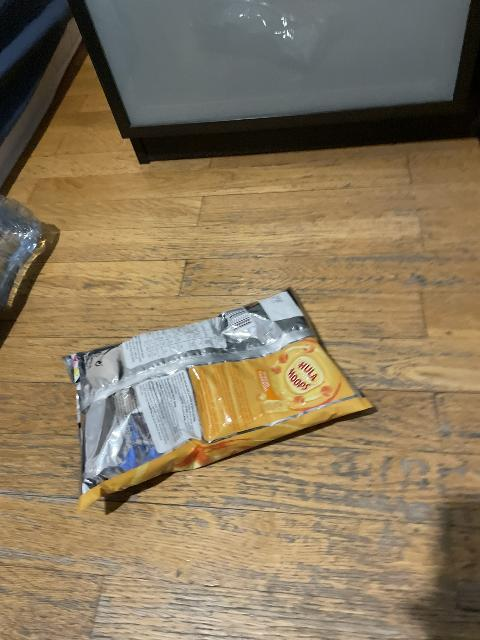Chio Hula Hoops Cheese 70g: (63, 287, 374, 516)
